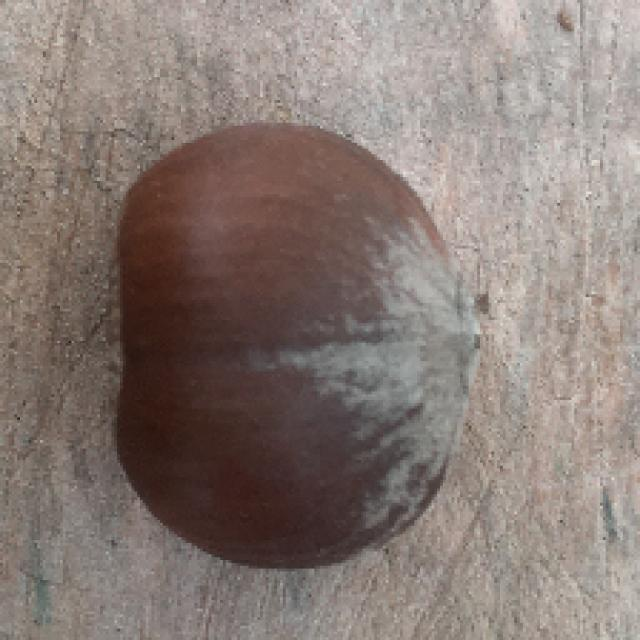DamagedHazelnut: (107, 123, 488, 573)
